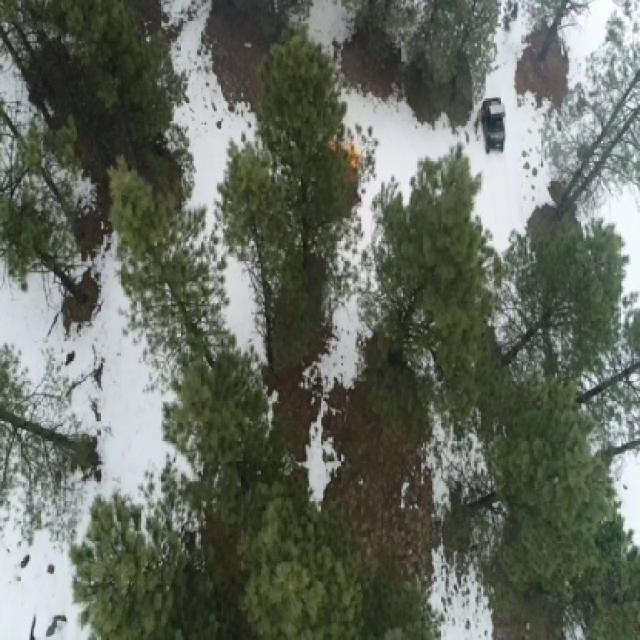Fire: (353, 149, 361, 167)
